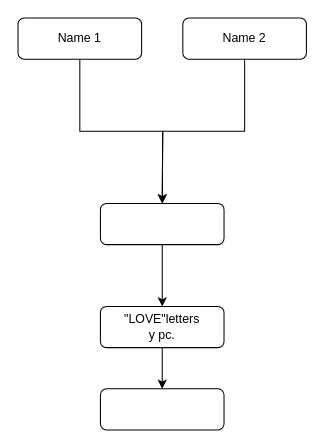
Some shapes in this 324 by 448 pixel diagram are drawn without their labels. Each missing label, with the centre of its shape:
"TRUE"letters x pc.: (x=161, y=223)
score = xy: (x=161, y=409)
